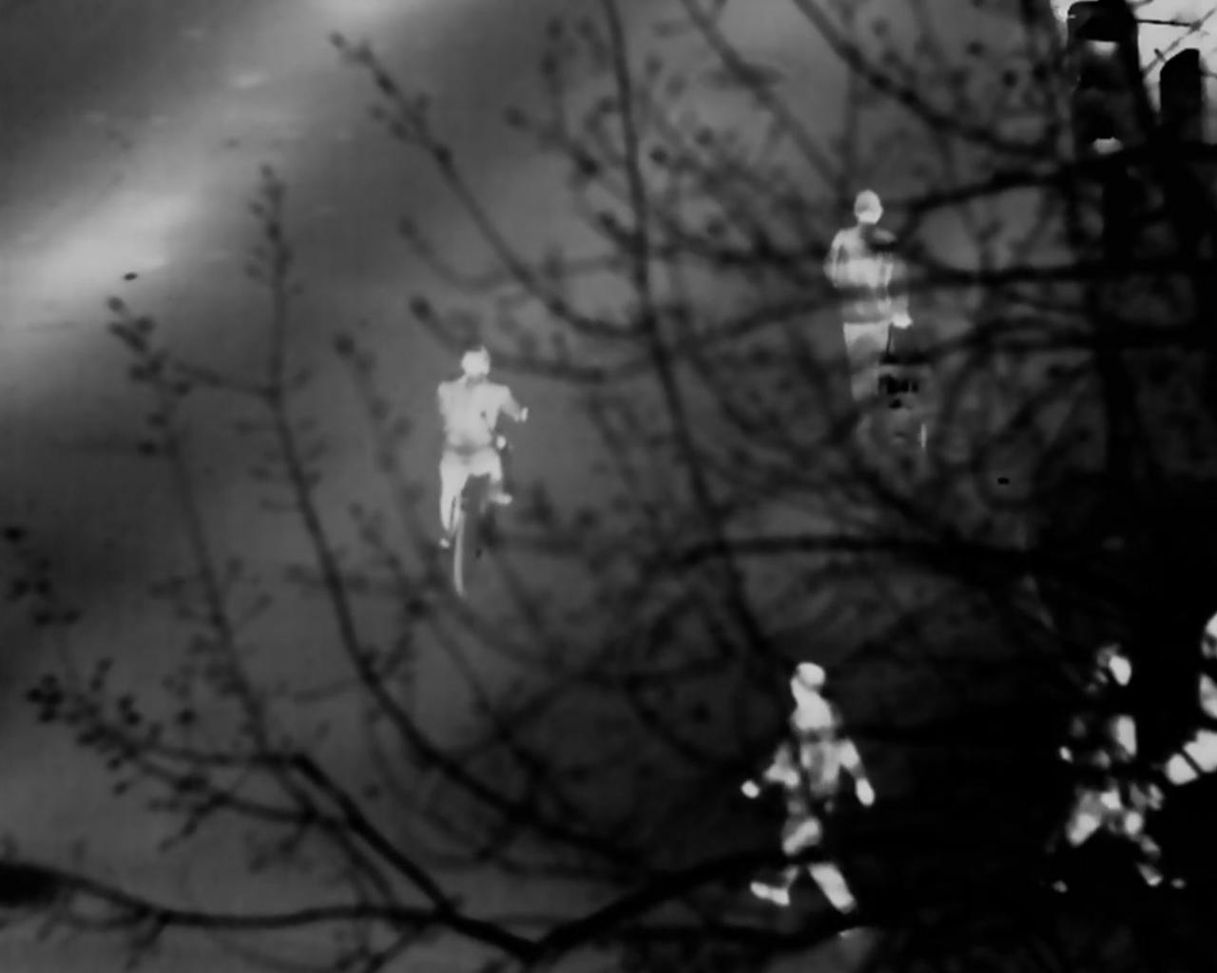person: (741, 663, 868, 916), (1045, 638, 1166, 877), (431, 342, 551, 557), (822, 191, 914, 400)
